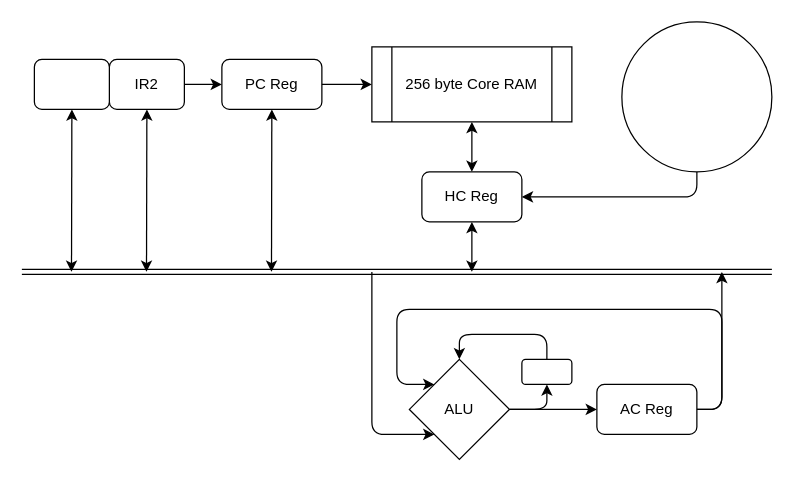
This 794x481 diagram has some shape labels left out. The centre of each missing label's shape, as x and y in pixels:
"Carry" goes at pixel 546 371.
"Drum Memory" goes at pixel 696 96.
"IR1" goes at pixel 71 83.
